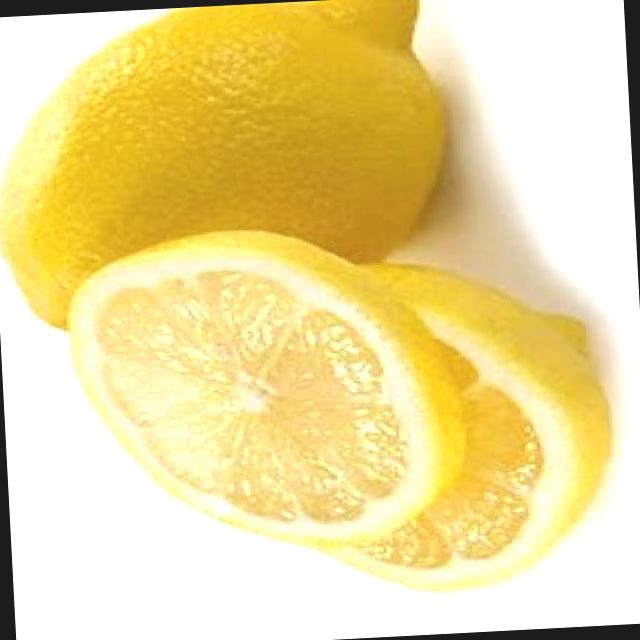mango: (0, 0, 462, 338), (72, 221, 468, 564)
